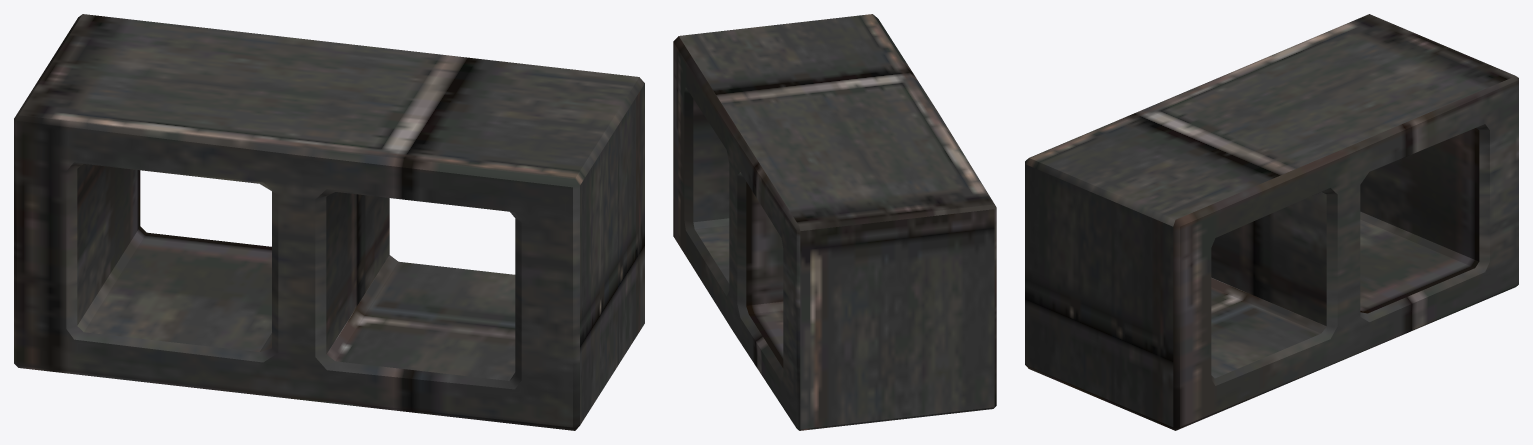
Rendered from Brick.fbx.
3 views of the same model, side by side, from view 1: azimuth 30°, elevation 25°; view 2: azimuth 150°, elevation 25°; view 3: azimuth 270°, elevation 25° (orthographic). The views are drawn at different scales.
Parts seen in each view (by area): view 1: Brick.001; view 2: Brick.001; view 3: Brick.001.
Boxes of the visible parts, left/top/right/bottom form: Brick.001: left=14, top=14, right=644, bottom=430; Brick.001: left=673, top=14, right=996, bottom=430; Brick.001: left=1025, top=14, right=1518, bottom=430.
Size of the model in its own units: 0.4618 by 0.2177 by 0.4617.
1 material, 1 textured.
